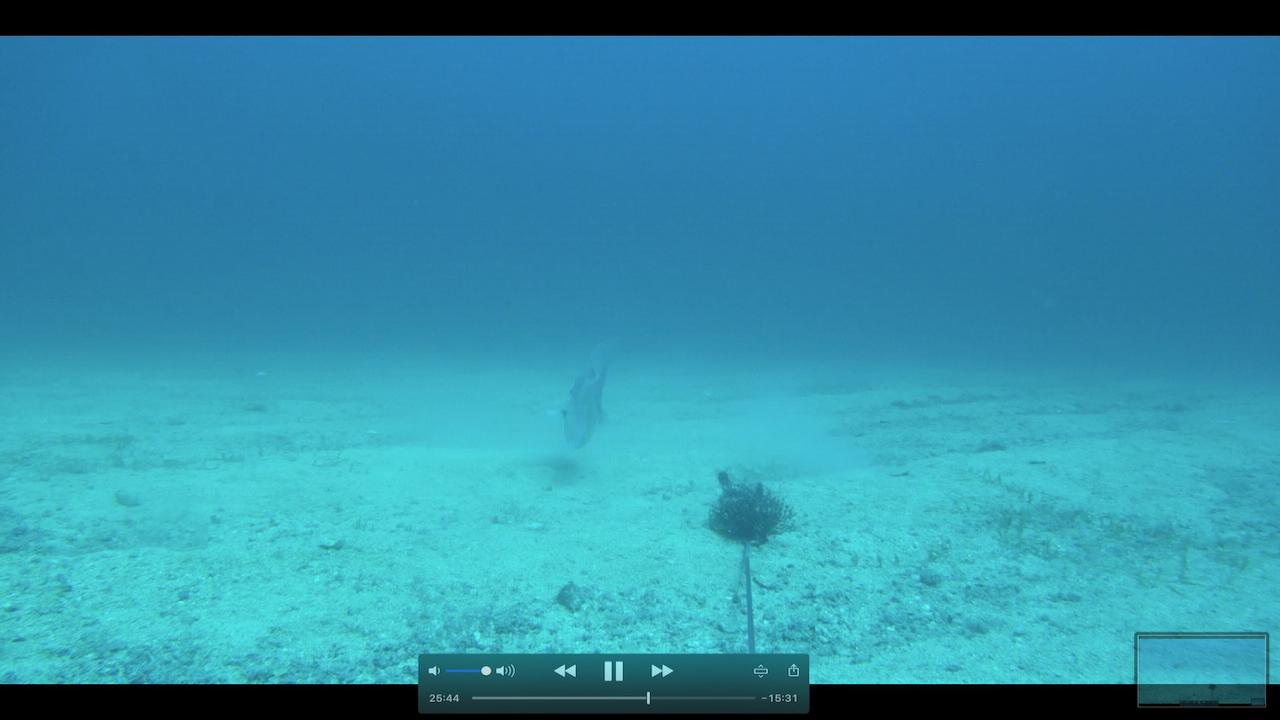balistes: (545, 327, 616, 459)
